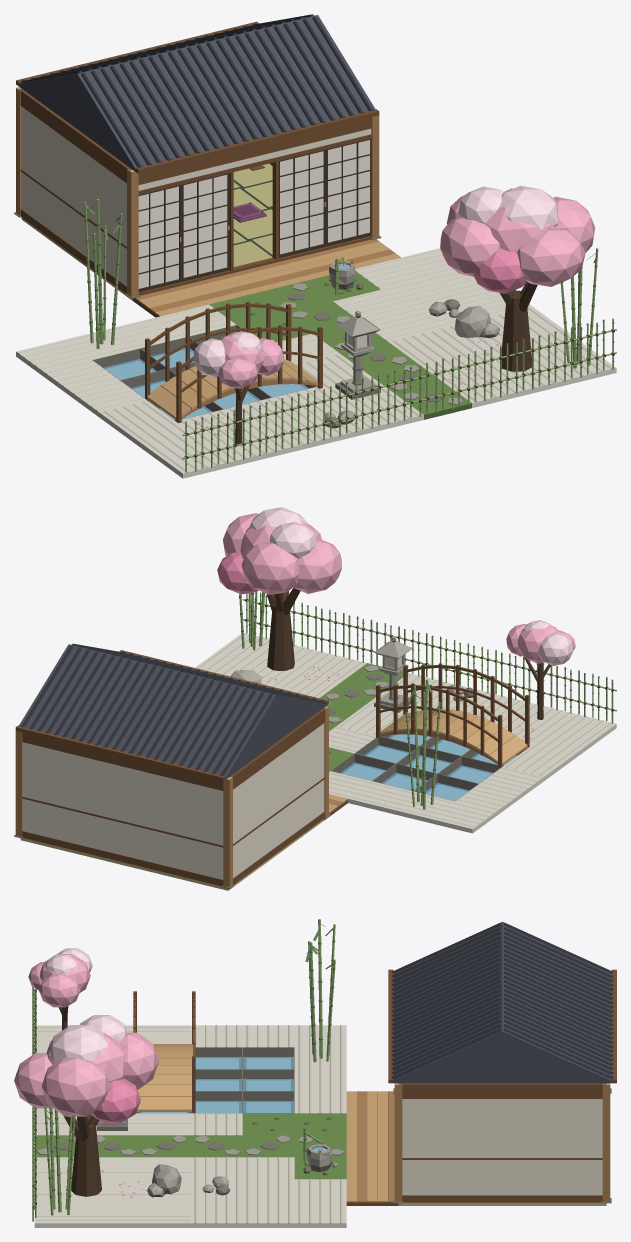
The model's file is scene_teahouse.glb.
3 views of the same model, one above another, from view 1: azimuth 30°, elevation 25°; view 2: azimuth 150°, elevation 25°; view 3: azimuth 270°, elevation 25° (orthographic). The views are drawn at different scales.
Visible parts, largest first — view 1: sakura_tree_sakura_a.001, sakura_roof_eave_1m.002, sakura_garden_bridge_3m.001, sakura_door_shoji_1m.002, sakura_door_shoji_1m.003, sakura_roof_eave_1m.004, sakura_roof_eave_1m.006, sakura_roof_eave_1m.010, sakura_roof_eave_1m.008, sakura_door_shoji_1m.004, sakura_door_shoji_1m.001, sakura_tree_sakura_b.001 (+76 smaller); view 2: sakura_tree_sakura_a.001, sakura_garden_bridge_3m.001, sakura_roof_eave_1m.001, sakura_wall_plain_1m.002, sakura_wall_plain_1m.004, sakura_wall_plain_1m.003, sakura_roof_eave_1m.005, sakura_roof_eave_1m.009, sakura_roof_eave_1m.003, sakura_roof_eave_1m.007, sakura_wall_plain_1m.005, sakura_wall_plain_1m.001 (+46 smaller); view 3: sakura_tree_sakura_a.001, sakura_wall_plain_1m.009, sakura_wall_plain_1m.011, sakura_wall_plain_1m.007, sakura_wall_plain_1m.013, sakura_roof_eave_1m.009, sakura_roof_eave_1m.010, sakura_garden_bridge_3m.001, sakura_tree_sakura_b.001, sakura_roof_eave_1m.002, sakura_roof_eave_1m.003, sakura_roof_eave_1m.006 (+59 smaller).
Part boxes in pixels (x1,y1,x2,y2): sakura_tree_sakura_a.001: (440,185,595,371); sakura_roof_eave_1m.002: (77,62,186,173); sakura_garden_bridge_3m.001: (145,301,322,423); sakura_door_shoji_1m.002: (181,151,230,285); sakura_door_shoji_1m.003: (278,128,327,261); sakura_roof_eave_1m.004: (125,50,234,161); sakura_roof_eave_1m.006: (174,38,282,150); sakura_roof_eave_1m.010: (270,15,379,126); sakura_roof_eave_1m.008: (222,27,330,138); sakura_door_shoji_1m.004: (326,117,371,249); sakura_door_shoji_1m.001: (138,163,182,295); sakura_tree_sakura_b.001: (193,331,283,444); sakura_tree_sakura_a.001: (217,507,341,670); sakura_garden_bridge_3m.001: (376,663,529,767); sakura_roof_eave_1m.001: (182,685,276,781); sakura_wall_plain_1m.002: (143,762,185,877); sakura_wall_plain_1m.004: (60,742,102,856); sakura_wall_plain_1m.003: (102,752,143,867); sakura_roof_eave_1m.005: (98,664,192,760); sakura_roof_eave_1m.009: (15,644,109,740); sakura_roof_eave_1m.003: (140,674,234,770); sakura_roof_eave_1m.007: (57,654,151,750); sakura_wall_plain_1m.005: (22,732,60,846); sakura_wall_plain_1m.001: (185,772,223,886); sakura_tree_sakura_a.001: (14,1015,158,1196); sakura_wall_plain_1m.009: (450,1083,502,1202); sakura_wall_plain_1m.011: (502,1083,554,1202); sakura_wall_plain_1m.007: (398,1083,450,1202); sakura_wall_plain_1m.013: (554,1083,606,1202); sakura_roof_eave_1m.009: (502,1010,616,1083); sakura_roof_eave_1m.010: (388,1009,502,1083); sakura_garden_bridge_3m.001: (133,991,195,1113); sakura_tree_sakura_b.001: (28,948,92,1030); sakura_roof_eave_1m.002: (388,922,502,992); sakura_roof_eave_1m.003: (502,944,616,1014); sakura_roof_eave_1m.006: (388,966,502,1036).
Size of the model in its own units: 9 by 3.91 by 11.6.
Materials: 1 (1 with a texture image).
